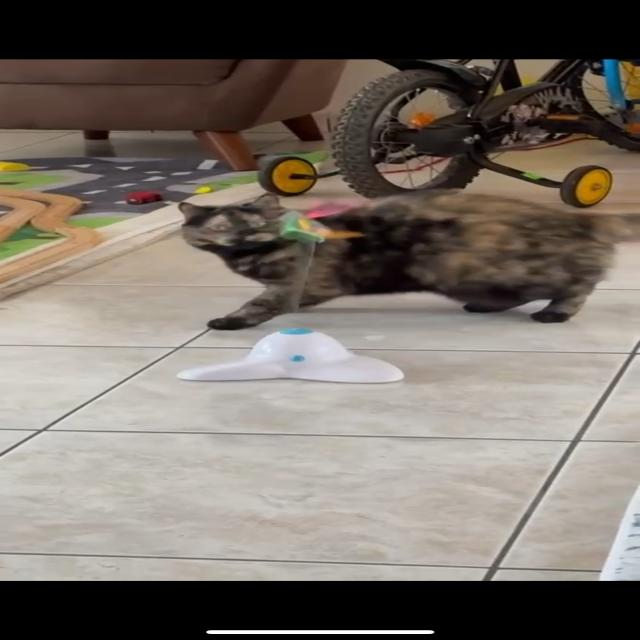authorized: (177, 188, 638, 330)
